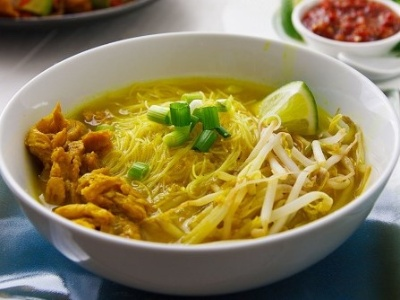soto: (44, 74, 344, 235)
